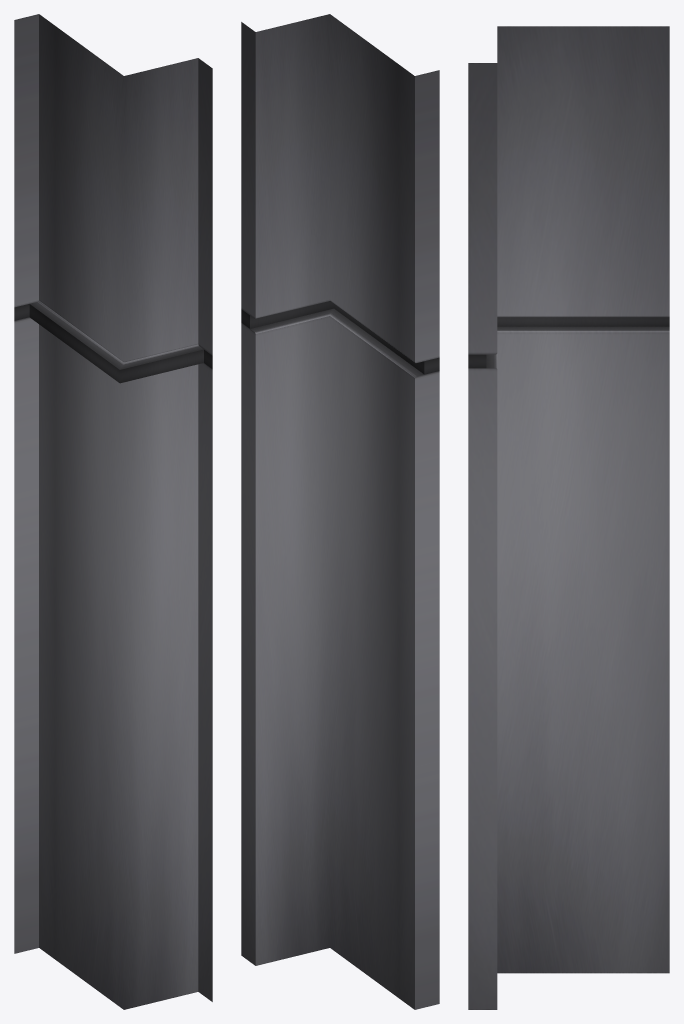
The model's file is COR_LIN_HB.fbx.
The picture shows the model from 3 angles, left to right: view 1: azimuth 30°, elevation 25°; view 2: azimuth 210°, elevation 25°; view 3: azimuth 270°, elevation 25°; orthographic projection.
Visible parts, largest first — view 1: COR_LIN_HB; view 2: COR_LIN_HB; view 3: COR_LIN_HB.
Boxes of the visible parts, bbox=[...] form: COR_LIN_HB: bbox=[14, 14, 212, 1009]; COR_LIN_HB: bbox=[241, 14, 439, 1009]; COR_LIN_HB: bbox=[468, 26, 669, 1009].
Size of the model in its own units: 0.5 by 4.5 by 0.866.
